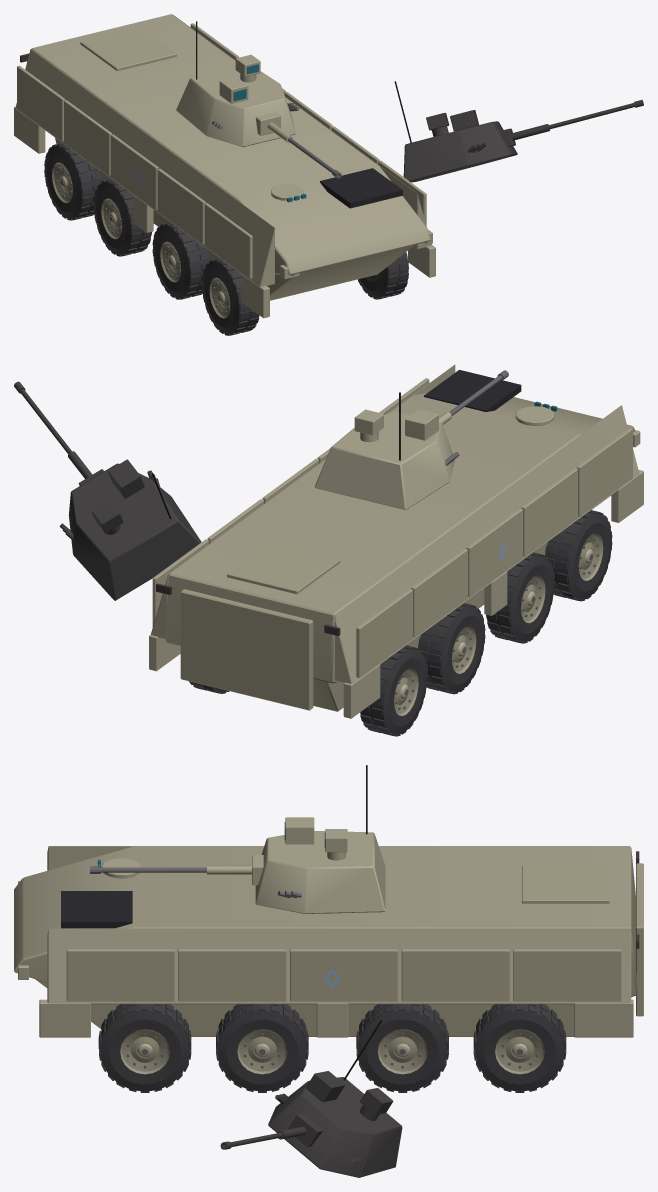
Rendered from ifv__vbci.glb.
3 views of the same model, one above another, from view 1: azimuth 30°, elevation 25°; view 2: azimuth 150°, elevation 25°; view 3: azimuth 270°, elevation 25° (orthographic). The views are drawn at different scales.
Parts seen in each view (by area): view 1: Hull_Mesh, Turret_Mesh, Wreck, Wheel_L0_Mesh, Wheel_L2_Mesh, Wheel_L1_Mesh, Wheel_L3_Mesh, Wheel_R3_Mesh, Gun_Mesh; view 2: Hull_Mesh, Wreck, Turret_Mesh, Wheel_L1_Mesh, Wheel_L3_Mesh, Wheel_L2_Mesh, Wheel_L0_Mesh, Gun_Mesh; view 3: Hull_Mesh, Turret_Mesh, Wreck, Wheel_R0_Mesh, Wheel_R2_Mesh, Wheel_R3_Mesh, Wheel_R1_Mesh, Gun_Mesh.
Boxes of the visible parts, x1,y1,x2,y2 form: Hull_Mesh: [14, 14, 435, 318]; Turret_Mesh: [176, 21, 299, 146]; Wreck: [65, 81, 643, 330]; Wheel_L0_Mesh: [44, 143, 101, 220]; Wheel_L2_Mesh: [152, 222, 209, 299]; Wheel_L1_Mesh: [93, 179, 151, 256]; Wheel_L3_Mesh: [201, 258, 259, 335]; Wheel_R3_Mesh: [358, 252, 408, 299]; Gun_Mesh: [255, 112, 341, 178]; Hull_Mesh: [149, 364, 643, 718]; Wreck: [14, 381, 587, 736]; Turret_Mesh: [314, 392, 459, 510]; Wheel_L1_Mesh: [418, 603, 485, 694]; Wheel_L3_Mesh: [545, 510, 612, 601]; Wheel_L2_Mesh: [486, 552, 554, 643]; Wheel_L0_Mesh: [360, 645, 427, 736]; Gun_Mesh: [439, 370, 508, 424]; Hull_Mesh: [14, 846, 643, 1037]; Turret_Mesh: [255, 765, 385, 913]; Wreck: [129, 1020, 509, 1177]; Wheel_R0_Mesh: [473, 1004, 566, 1092]; Wheel_R2_Mesh: [216, 1004, 308, 1092]; Wheel_R3_Mesh: [98, 1004, 191, 1092]; Wheel_R1_Mesh: [356, 1004, 448, 1092]; Gun_Mesh: [90, 855, 263, 885].
Size of what is drawn, in the model's own units: 7.94 by 3.73 by 7.9.
